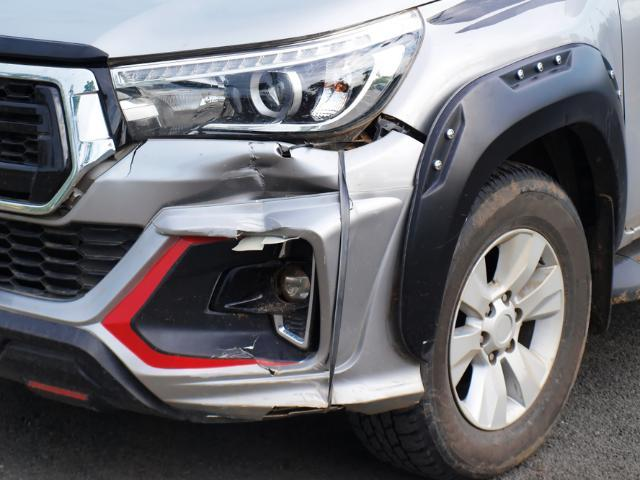Bumper: (59, 113, 431, 423)
